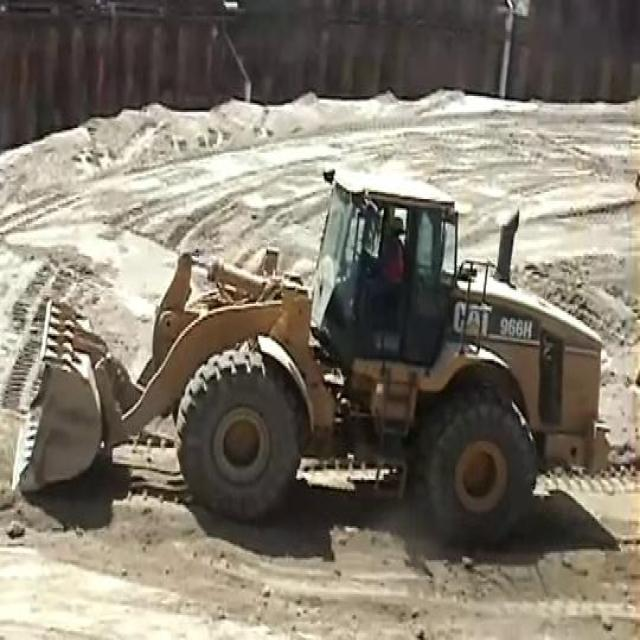buldozerpayloadergrader: (10, 167, 609, 548)
